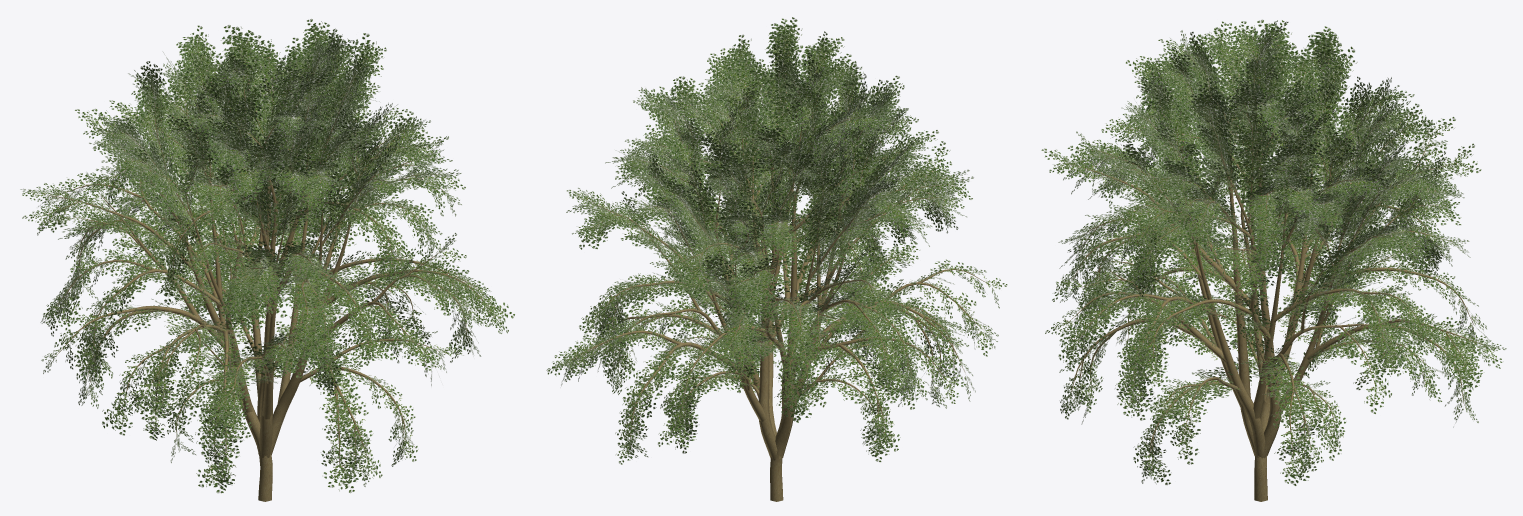
File: tree1.glb
The picture shows the model from 3 angles, left to right: view 1: azimuth 30°, elevation 25°; view 2: azimuth 150°, elevation 25°; view 3: azimuth 270°, elevation 25°; orthographic projection. The views are drawn at different scales.
Parts seen in each view (by area): view 1: leaves, tree; view 2: leaves, tree; view 3: leaves, tree.
Boxes of the visible parts, bbox=[...] form: leaves: bbox=[20, 19, 514, 493]; tree: bbox=[45, 55, 489, 501]; leaves: bbox=[546, 17, 1007, 464]; tree: bbox=[571, 52, 985, 501]; leaves: bbox=[1041, 19, 1506, 485]; tree: bbox=[1069, 43, 1484, 501].
Bounding box in the file's own units: 5.82 × 6.89 × 6.15.
Materials: 2 (2 with a texture image).
